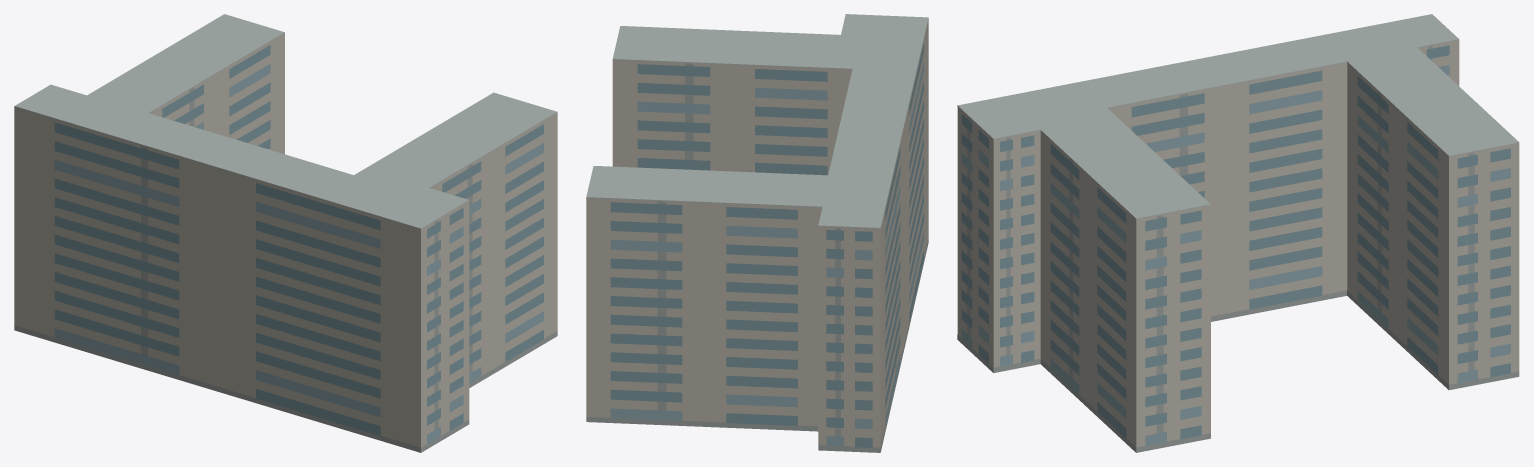
The model's file is residential-d2c664bd-10f8-41a6-af34-224c088a91bd.glb.
3 views of the same model, side by side, from view 1: azimuth 30°, elevation 25°; view 2: azimuth 150°, elevation 25°; view 3: azimuth 270°, elevation 25° (orthographic). The views are drawn at different scales.
Visible parts, largest first — view 1: residential-d2c664bd-10f8-41a6-af34-224c088a91bd.tmp; view 2: residential-d2c664bd-10f8-41a6-af34-224c088a91bd.tmp; view 3: residential-d2c664bd-10f8-41a6-af34-224c088a91bd.tmp.
Part boxes in pixels (left/top/right/bottom): residential-d2c664bd-10f8-41a6-af34-224c088a91bd.tmp: left=14, top=14, right=557, bottom=452; residential-d2c664bd-10f8-41a6-af34-224c088a91bd.tmp: left=586, top=14, right=928, bottom=452; residential-d2c664bd-10f8-41a6-af34-224c088a91bd.tmp: left=957, top=14, right=1519, bottom=452.
Size of the model in its own units: 63.66 by 34 by 73.89.
